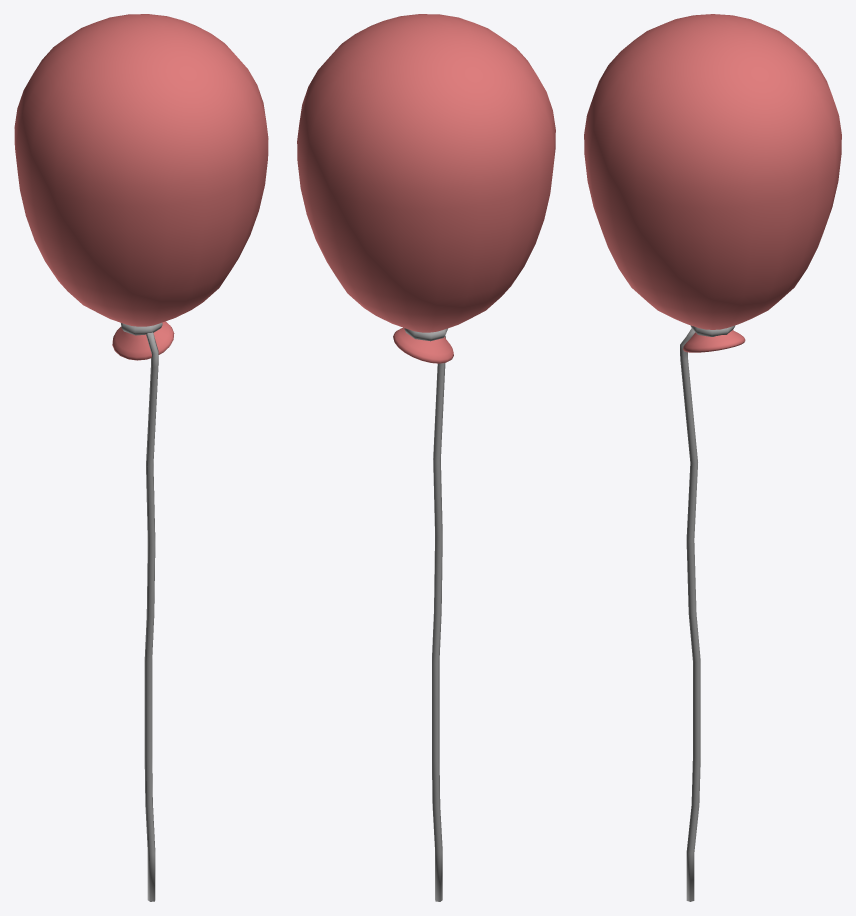
Rendered from Balloon.fbx.
3 views of the same model, side by side, from view 1: azimuth 30°, elevation 25°; view 2: azimuth 150°, elevation 25°; view 3: azimuth 270°, elevation 25° (orthographic).
Parts seen in each view (by area): view 1: body, String; view 2: body, String; view 3: body, String.
Part boxes in pixels (bbox=[...]): body: bbox=[14, 14, 268, 360]; String: bbox=[121, 322, 162, 901]; body: bbox=[297, 14, 555, 363]; String: bbox=[404, 328, 447, 901]; body: bbox=[584, 14, 841, 352]; String: bbox=[680, 325, 735, 901].
Bounding box in the file's own units: 65.55 × 245 × 65.55.
